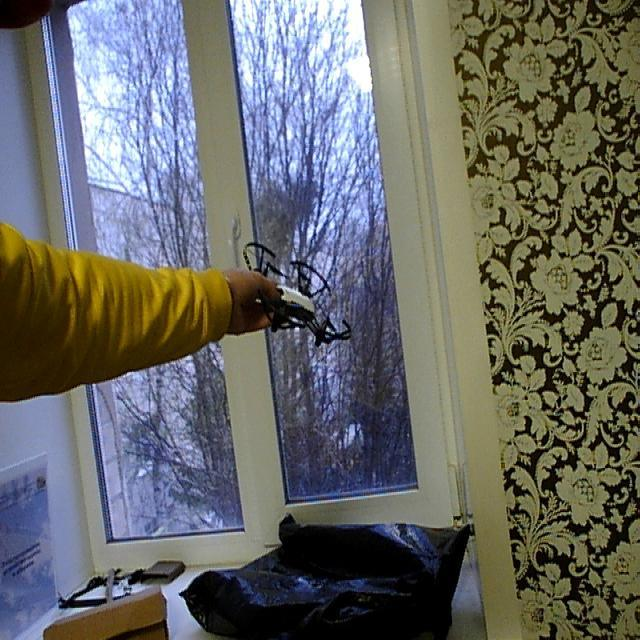drone: (231, 232, 360, 361)
